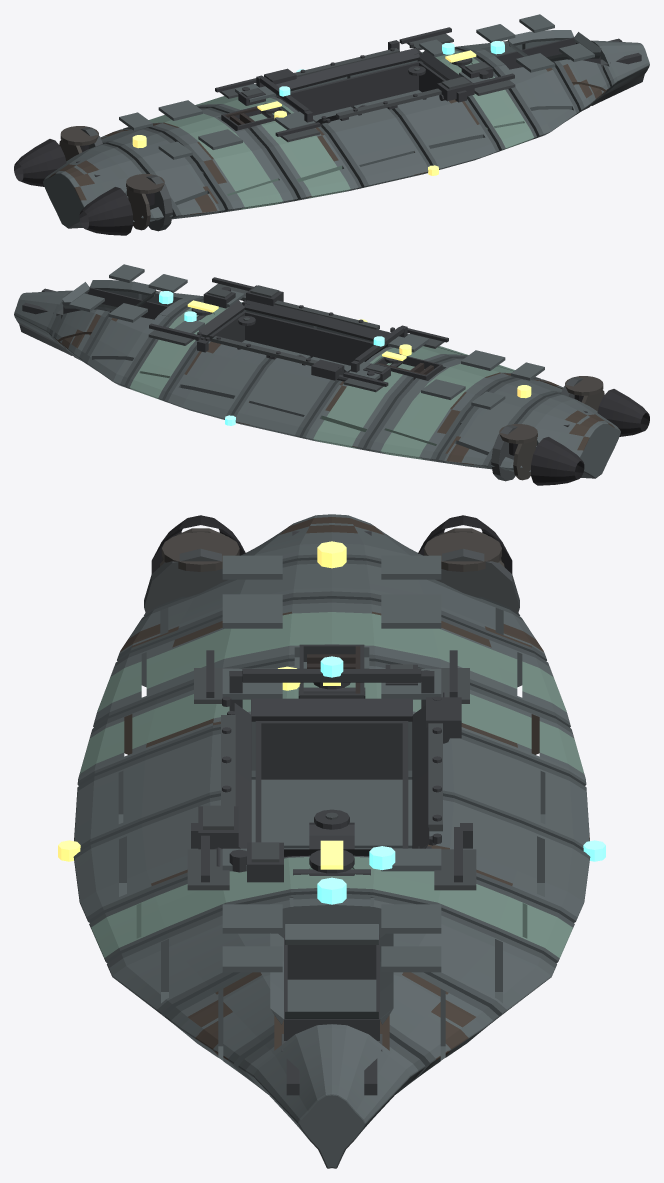
File: drifter_production_v1_lod2.glb
3 views of the same model, one above another, from view 1: azimuth 30°, elevation 25°; view 2: azimuth 150°, elevation 25°; view 3: azimuth 270°, elevation 25° (orthographic). The views are drawn at different scales.
Visible parts, largest first — view 1: LOD0_Hull, LOD0_Bracket_ForeP, LOD0_Collar_Port, LOD0_Bell_Port, LOD0_Bell_Stbd, LOD0_HeatBand_Port, LOD0_Beacon_Aft, LOD0_Bell_Nozzle_Port, LOD0_Bell_Nozzle_Stbd, LOD0_Beacon_Fore; view 2: LOD0_Hull, LOD0_Bracket_ForeP, LOD0_Collar_Port, LOD0_Bell_Stbd, LOD0_Bell_Port, LOD0_HeatBand_Port, LOD0_Beacon_Aft, LOD0_Bell_Nozzle_Stbd, LOD0_Bell_Nozzle_Port, LOD0_Beacon_Fore; view 3: LOD0_Hull, LOD0_Bracket_ForeP, LOD0_Collar_Port, LOD0_Beacon_Fore, LOD0_Beacon_Aft, LOD0_Bell_Nozzle_Port, LOD0_Bell_Nozzle_Stbd, LOD0_Bell_Port, LOD0_Bell_Stbd.
Boxes of the visible parts, x1,y1,x2,y2 form: LOD0_Hull: (43, 14, 649, 228); LOD0_Bracket_ForeP: (76, 27, 641, 176); LOD0_Collar_Port: (80, 33, 610, 231); LOD0_Bell_Port: (79, 187, 132, 235); LOD0_Bell_Stbd: (14, 139, 66, 186); LOD0_HeatBand_Port: (59, 140, 150, 230); LOD0_Beacon_Aft: (132, 50, 476, 175); LOD0_Bell_Nozzle_Port: (126, 174, 164, 193); LOD0_Bell_Nozzle_Stbd: (60, 126, 98, 145); LOD0_Beacon_Fore: (279, 41, 504, 96); LOD0_Hull: (14, 264, 620, 478); LOD0_Bracket_ForeP: (22, 277, 587, 426); LOD0_Collar_Port: (53, 283, 583, 481); LOD0_Bell_Stbd: (531, 437, 584, 485); LOD0_Bell_Port: (597, 389, 649, 436); LOD0_HeatBand_Port: (513, 390, 604, 480); LOD0_Beacon_Aft: (187, 300, 531, 398); LOD0_Bell_Nozzle_Stbd: (499, 424, 537, 443); LOD0_Bell_Nozzle_Port: (565, 376, 603, 395); LOD0_Beacon_Fore: (159, 291, 384, 425); LOD0_Hull: (73, 514, 590, 1168); LOD0_Bracket_ForeP: (191, 531, 472, 1095); LOD0_Collar_Port: (144, 548, 519, 1051); LOD0_Beacon_Fore: (317, 656, 605, 904); LOD0_Beacon_Aft: (58, 541, 346, 869); LOD0_Bell_Nozzle_Port: (162, 532, 239, 571); LOD0_Bell_Nozzle_Stbd: (424, 532, 501, 571); LOD0_Bell_Port: (151, 515, 245, 573); LOD0_Bell_Stbd: (418, 515, 512, 573).
Size of what is drawn, in the model's own units: 16.81 by 2.83 by 6.76.
